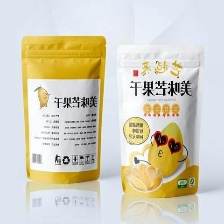snack: (109, 37, 212, 205), (16, 28, 113, 190)
